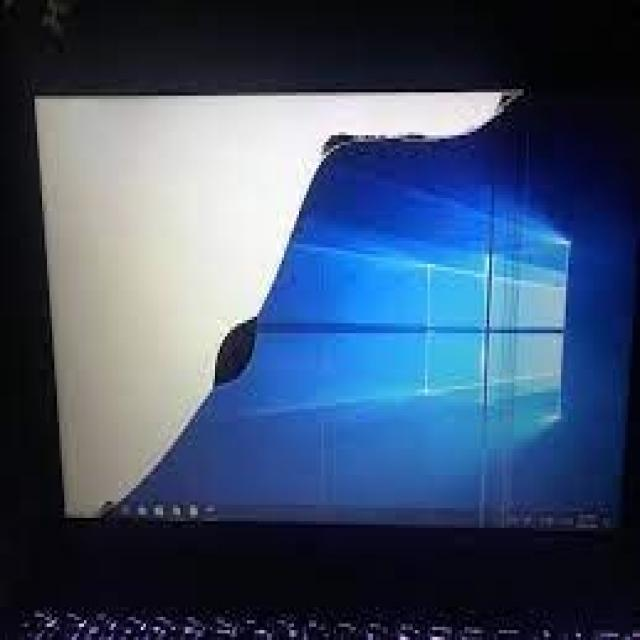Screen cracks: (30, 89, 532, 535)
